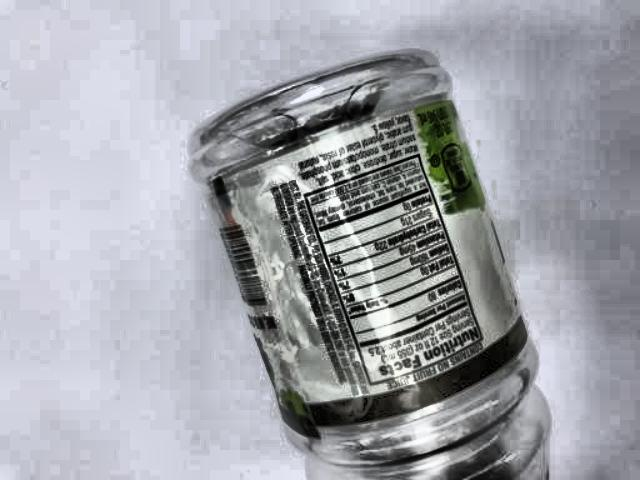Bottles: (180, 40, 579, 480)
